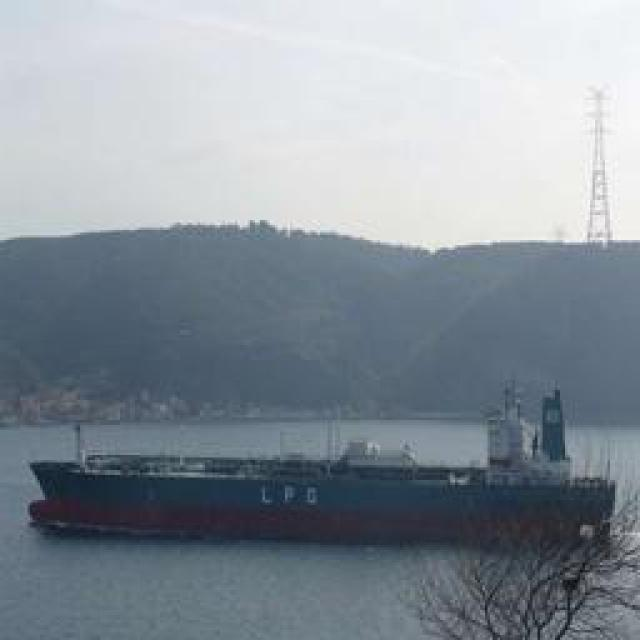Ship: (33, 463, 608, 541)
